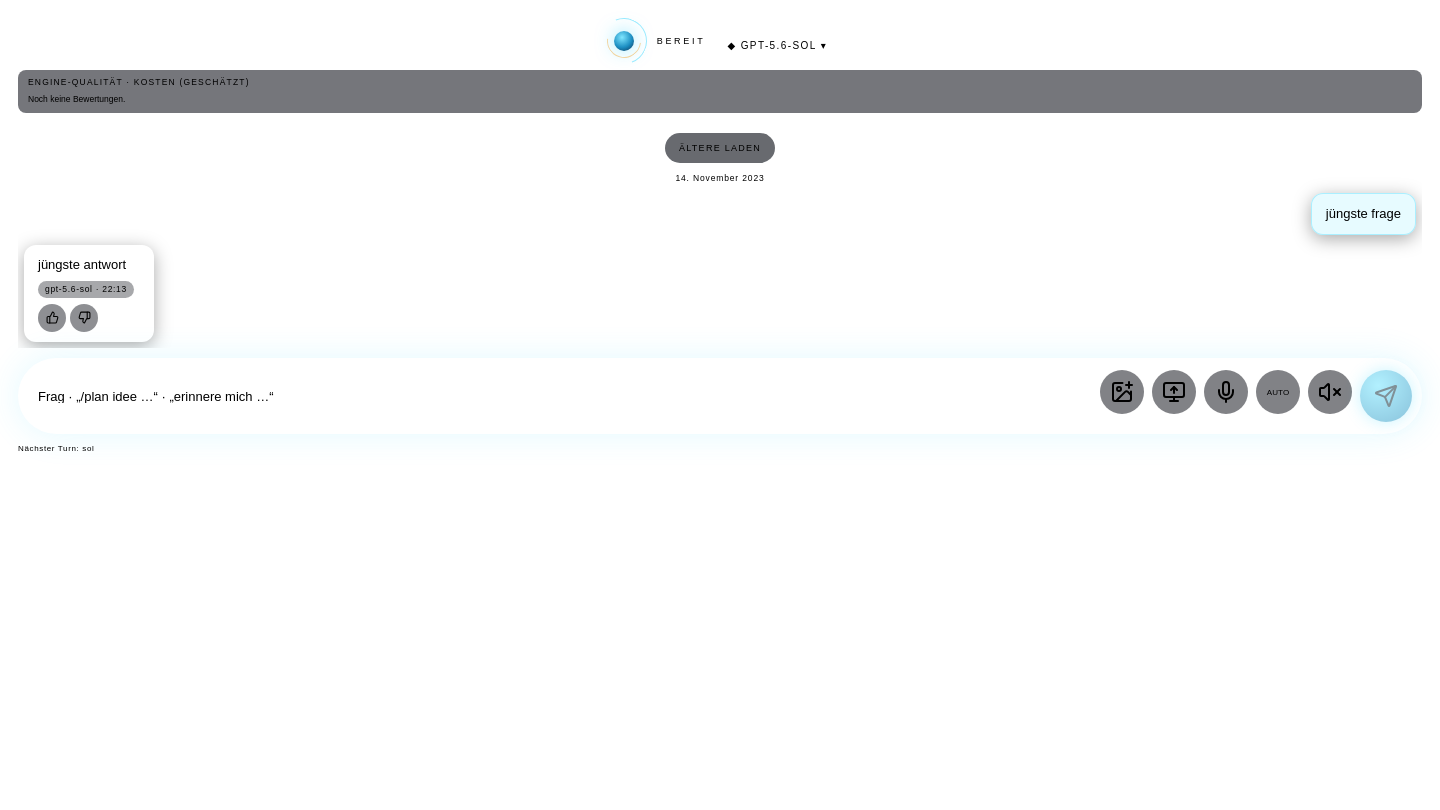
Test: JarvisChat (LIVE-Kontrakt /api/pa/*, Payload-Shapes aus test_pa_chat.py) › Cursor-Paging: Ältere laden holt die nächste Seite über before_id und hängt sie vorne an
Expected: the text "jüngste antwort" is shown, 38,256 -> 126,272
Click the button "ÄLTERE LADEN".
click(720, 148)  # box 665,133 -> 775,163
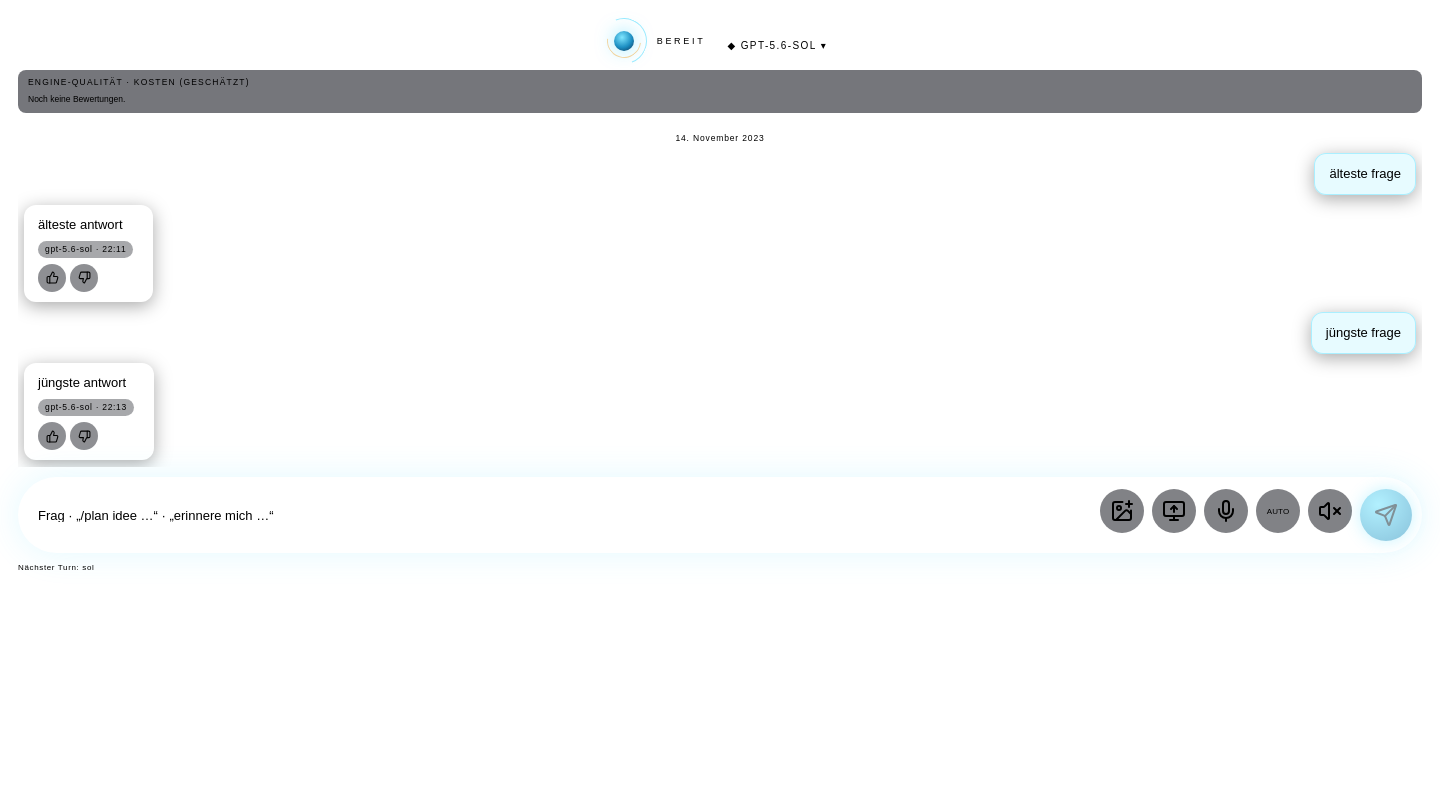
Expected: the text "älteste antwort" is shown, 38,216 -> 122,232
Expected: the button "ÄLTERE LADEN" is gone
